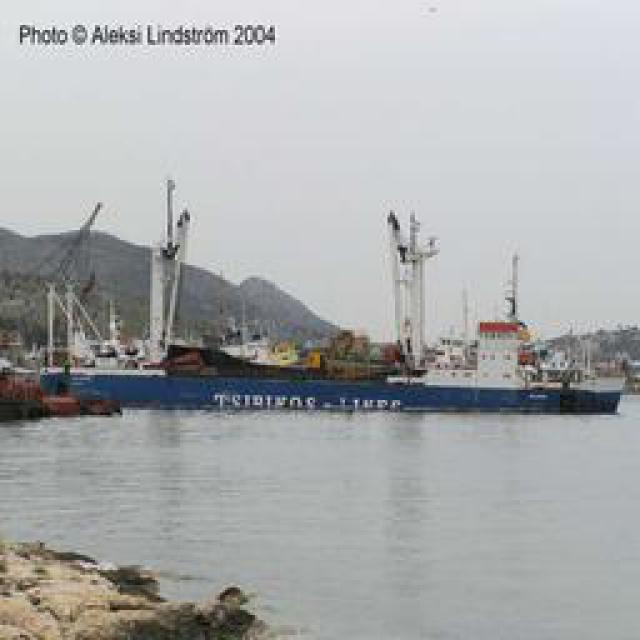Ship: (63, 341, 611, 414)
